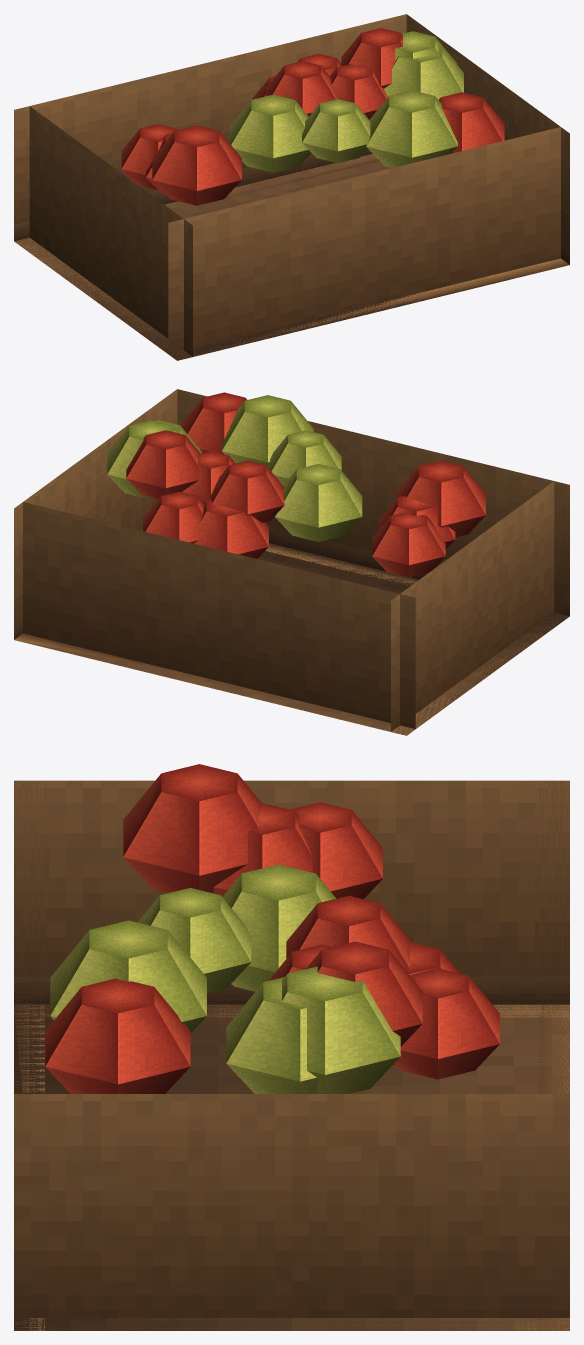
File: produce_crate.glb
The picture shows the model from 3 angles, top to bottom: view 1: azimuth 30°, elevation 25°; view 2: azimuth 150°, elevation 25°; view 3: azimuth 270°, elevation 25°; orthographic projection. The views are drawn at different scales.
Visible parts, largest first — view 1: produce_crate; view 2: produce_crate; view 3: produce_crate.
Part boxes in pixels (bbox=[...]): produce_crate: bbox=[14, 14, 569, 360]; produce_crate: bbox=[14, 389, 569, 735]; produce_crate: bbox=[14, 764, 569, 1330].
Size of the model in its own units: 0.5 by 0.2137 by 0.36.
Materials: 1 (1 with a texture image).
